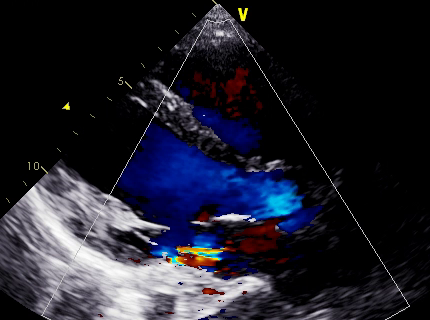MR: (166, 212, 230, 279)
